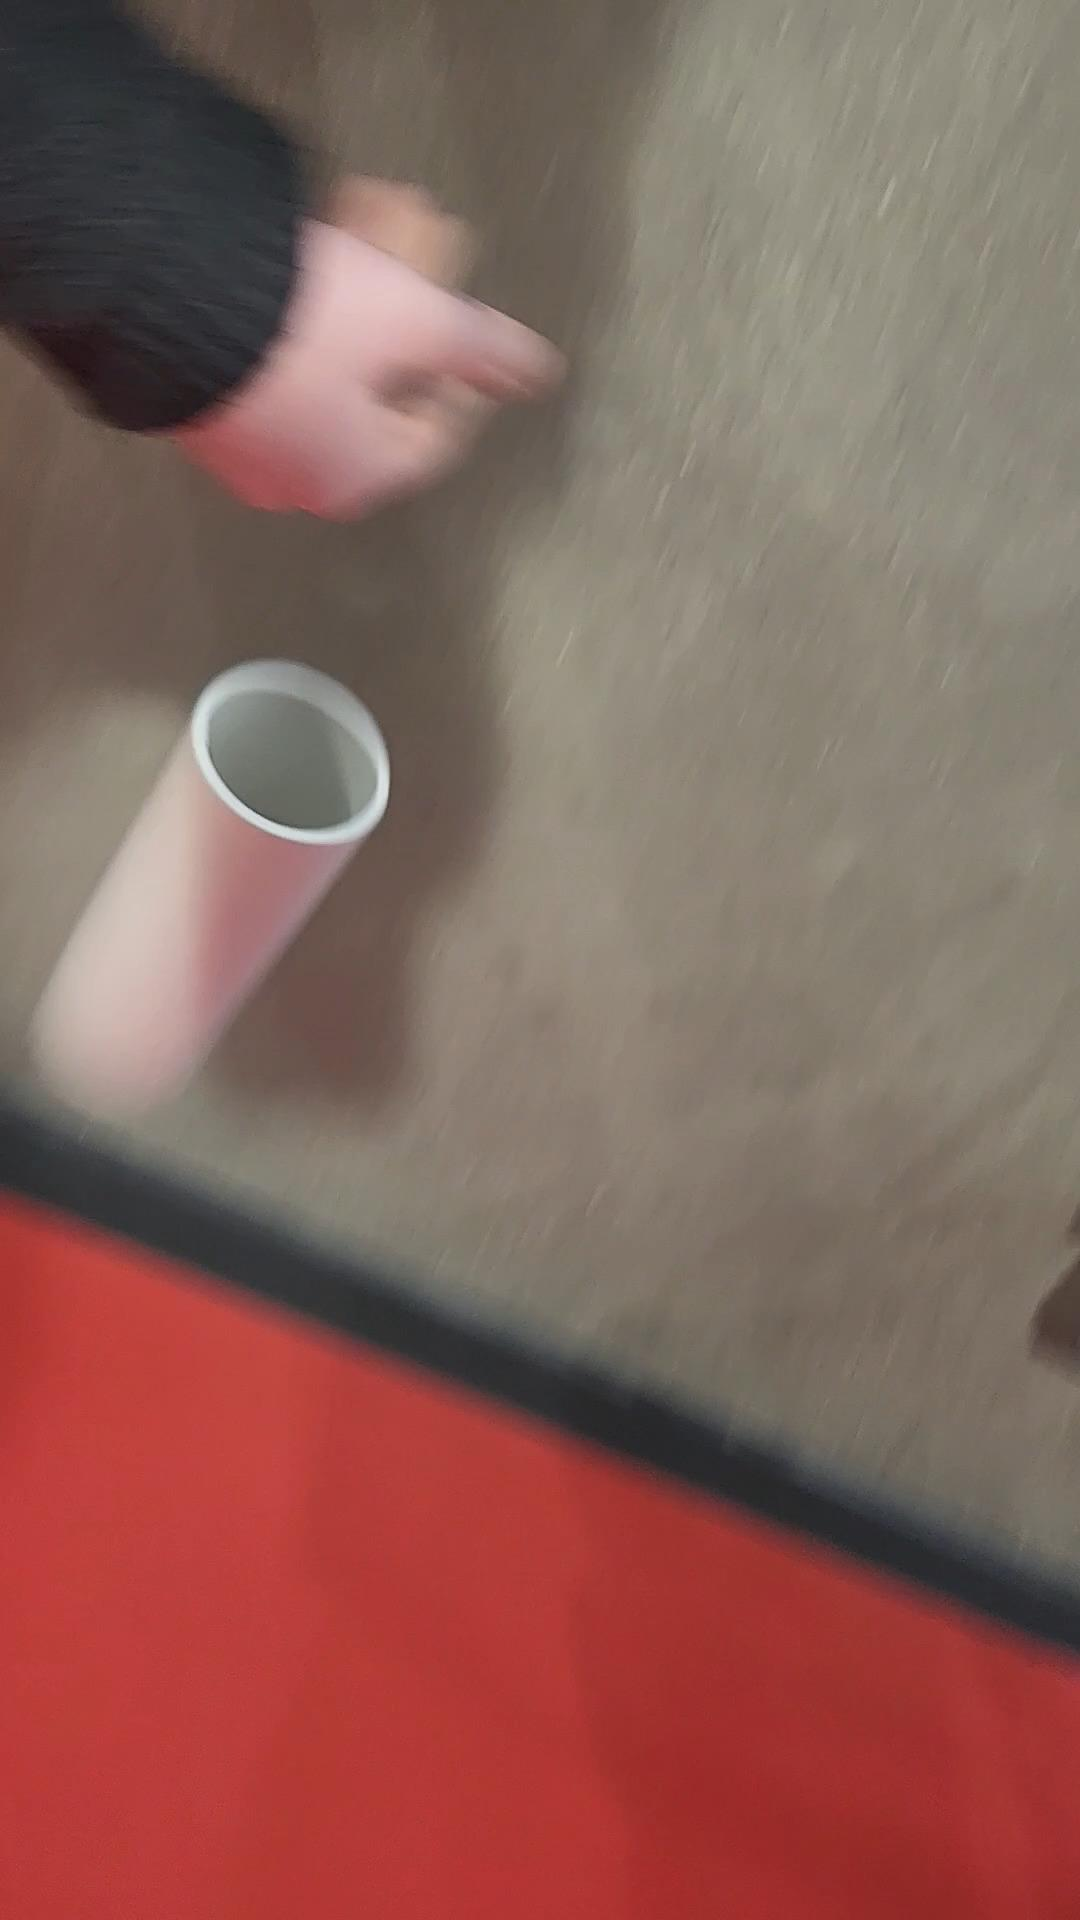coral: (24, 659, 390, 1138)
